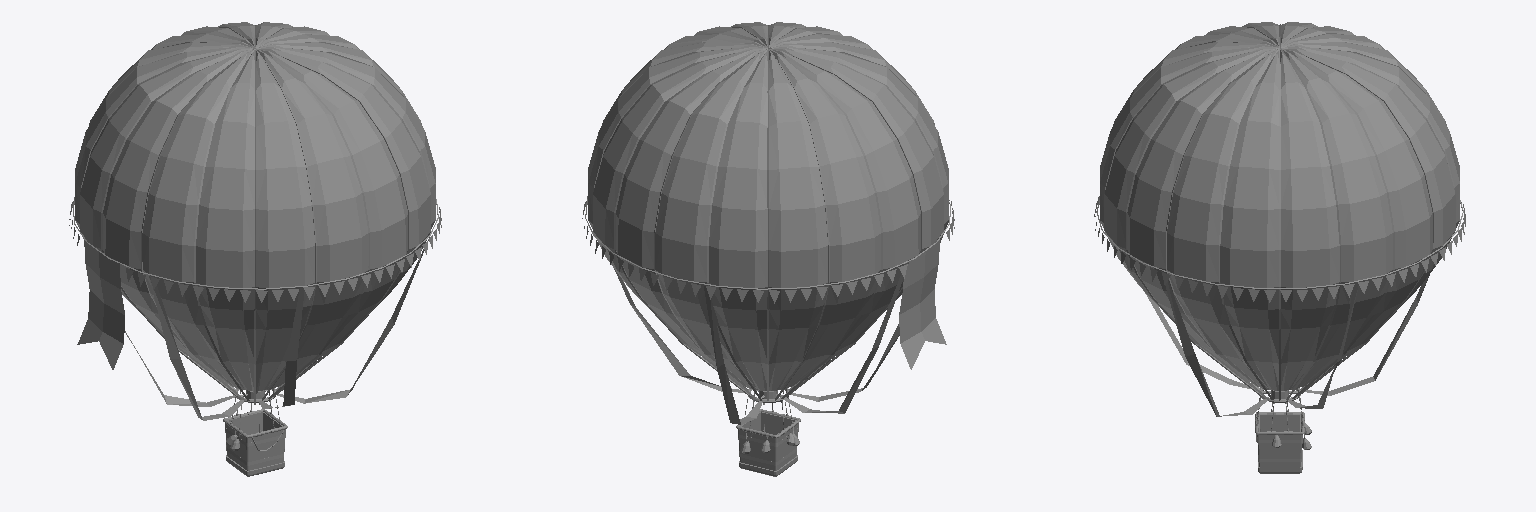
Rendered from Baloon_01.obj.
3 renders of one model, left to right at view 1: azimuth 30°, elevation 25°; view 2: azimuth 150°, elevation 25°; view 3: azimuth 270°, elevation 25°, orthographic.
Parts seen in each view (by area): view 1: Baloon_01; view 2: Baloon_01; view 3: Baloon_01.
Part boxes in pixels (x1,y1,x2,y2): Baloon_01: (69,22,441,476); Baloon_01: (582,22,954,476); Baloon_01: (1094,22,1465,473).
Bounding box in the file's own units: 113 × 140 × 113.